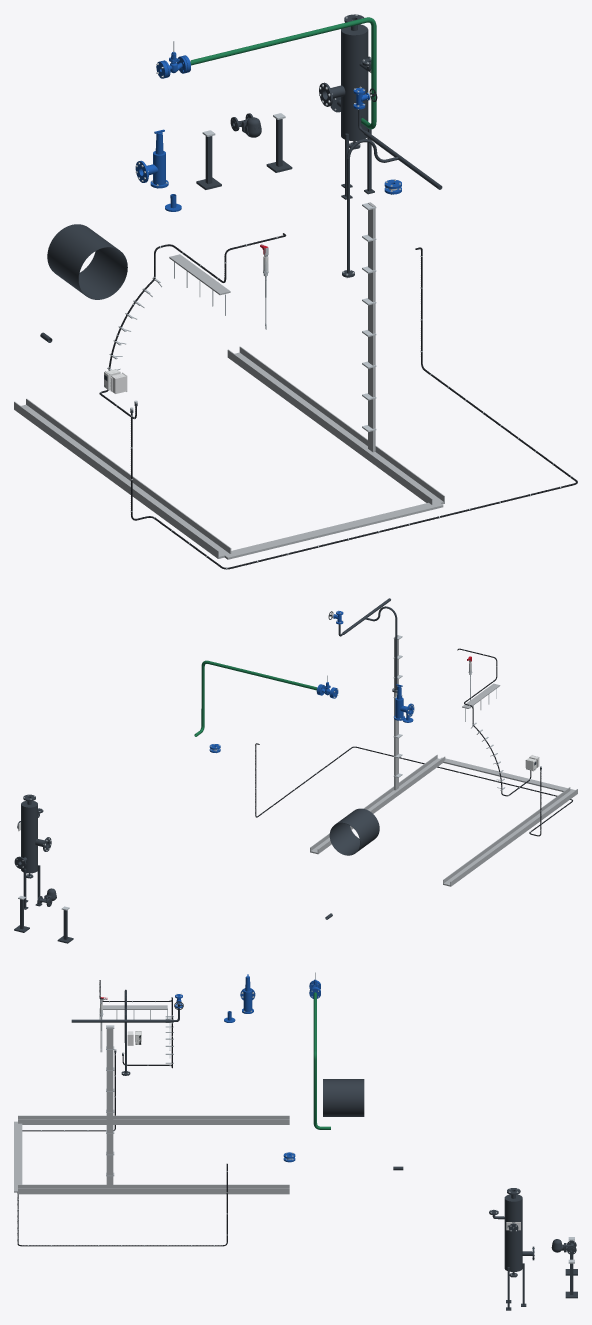
3 renders of one model, top to bottom at view 1: azimuth 30°, elevation 25°; view 2: azimuth 150°, elevation 25°; view 3: azimuth 270°, elevation 25°, orthographic. The views are drawn at different scales.
Parts seen in each view (by area): view 1: cables / zinc, flue_spacer / dark, separator_fv8 / dark, wiring_pump_1 / black, to_direct / green, pressure_header / dark, trap_support / dark, safety_2 / blue, cables / steel, wiring_lcs600 / black; view 2: cables / zinc, separator_fv8 / dark, flue_spacer / dark, wiring_pump_1 / black, to_direct / green, pressure_header / dark; view 3: cables / zinc, separator_fv8 / dark, flue_spacer / dark, wiring_pump_1 / black, pressure_header / dark, to_direct / green.
Boxes of the visible parts, x1,y1,x2,y2 form: cables / zinc: (14,202,444,559); flue_spacer / dark: (47,224,127,299); separator_fv8 / dark: (319,14,374,199); wiring_pump_1 / black: (130,247,577,569); to_direct / green: (190,17,376,129); pressure_header / dark: (342,109,442,277); trap_support / dark: (196,119,292,189); safety_2 / blue: (135,129,168,188); cables / steel: (107,203,376,432); wiring_lcs600 / black: (99,233,286,418); cables / zinc: (310,635,577,886); separator_fv8 / dark: (14,794,51,909); flue_spacer / dark: (329,808,379,855); wiring_pump_1 / black: (255,743,572,836); to_direct / green: (194,660,317,736); pressure_header / dark: (338,598,397,692); cables / zinc: (14,1005,289,1194); separator_fv8 / dark: (489,1188,534,1310); flue_spacer / dark: (323,1079,364,1116); wiring_pump_1 / black: (17,1053,227,1246); pressure_header / dark: (71,989,179,1075); to_direct / green: (313,992,330,1129).
Size of the model in its own units: 5.07 by 3.07 by 6.8.
